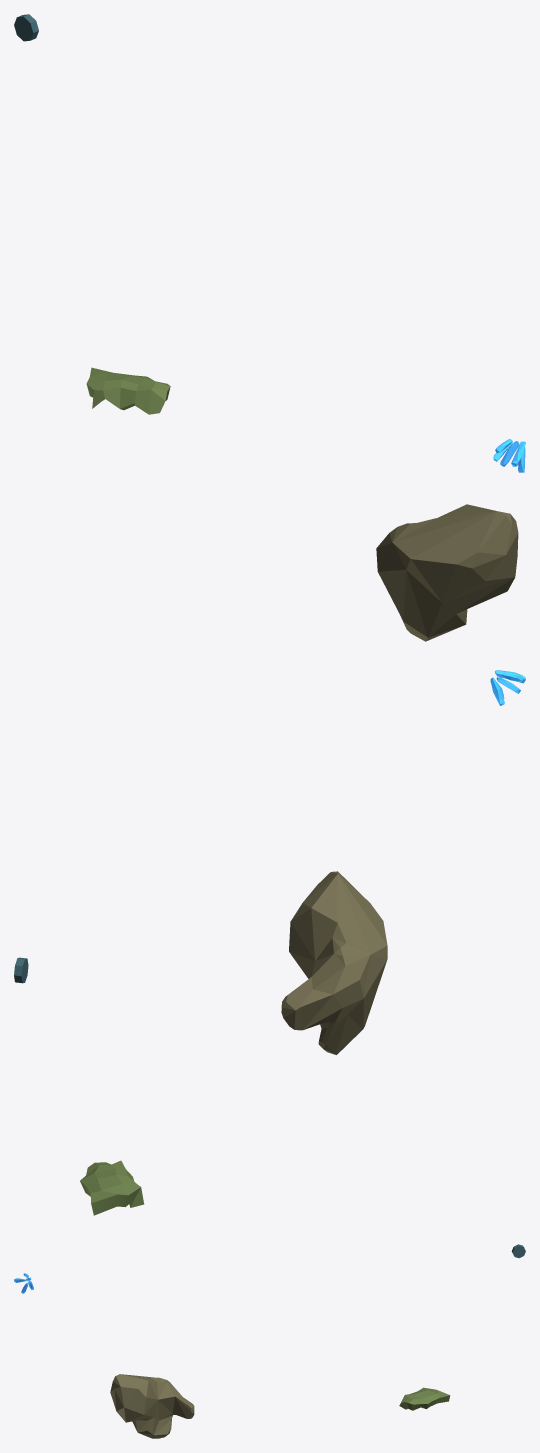
3 renders of one model, top to bottom at view 1: azimuth 30°, elevation 25°; view 2: azimuth 150°, elevation 25°; view 3: azimuth 270°, elevation 25°, orthographic. The views are drawn at different scales.
Visible parts, largest first — view 1: Box15461_rock2_0, Plane070_green3_0, Cylinder1756_effect_cristal_0; view 2: Box15461_rock2_0, Plane070_green3_0, Cylinder1756_effect_cristal_0; view 3: Box15461_rock2_0, Plane070_green3_0.
Boxes of the visible parts, x1,y1,x2,y2 form: Box15461_rock2_0: [376, 504, 518, 641]; Plane070_green3_0: [86, 367, 170, 414]; Cylinder1756_effect_cristal_0: [493, 439, 525, 472]; Box15461_rock2_0: [281, 871, 387, 1054]; Plane070_green3_0: [80, 1160, 144, 1215]; Cylinder1756_effect_cristal_0: [490, 670, 525, 705]; Box15461_rock2_0: [110, 1374, 194, 1438]; Plane070_green3_0: [399, 1387, 450, 1410].
Size of the model in its own units: 998 by 2715 by 6833.
